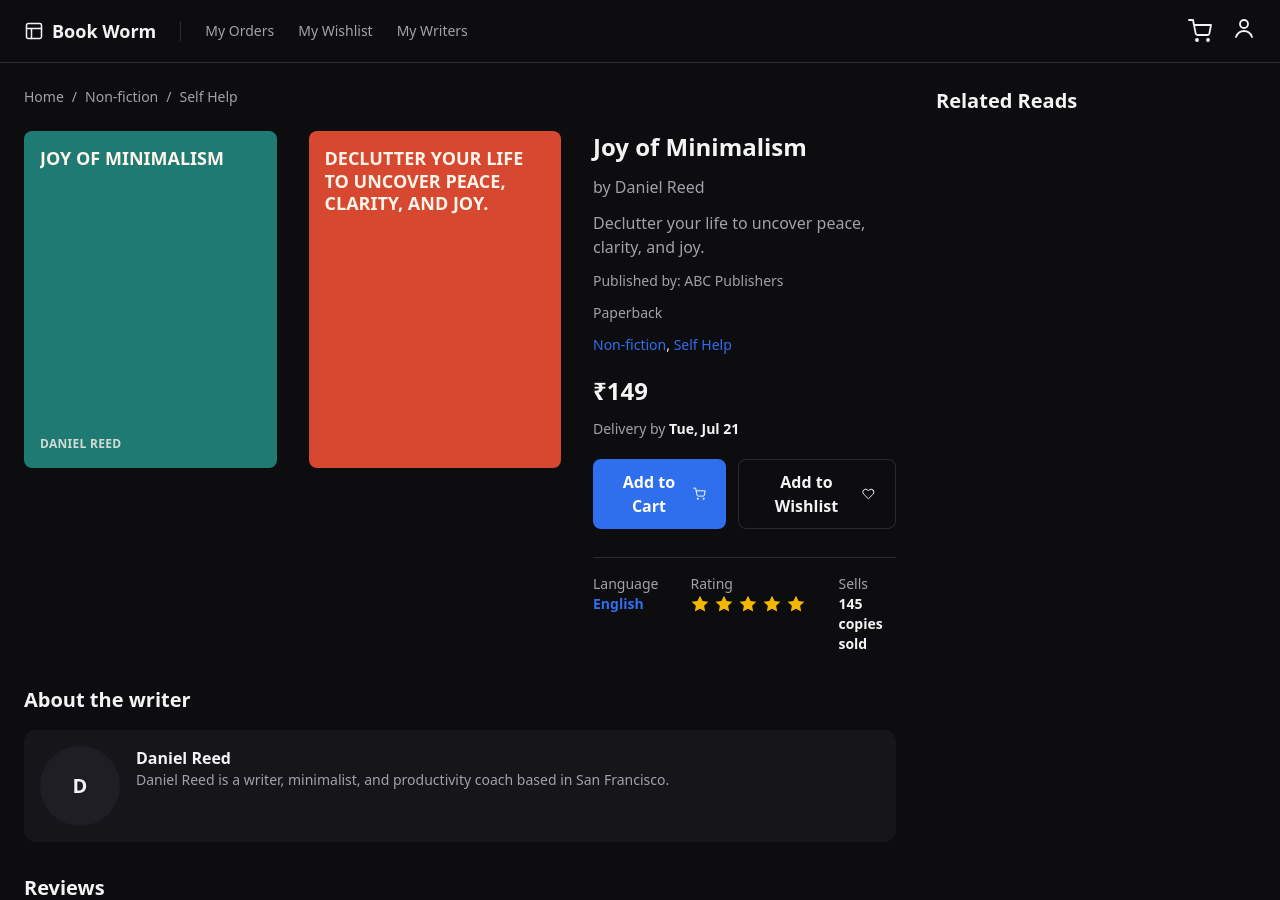
it: ProductDetailsPage › renders book detail and adding to cart updates the header cart badge
The image size is (1280, 900).
Expected: the heading "Joy of Minimalism" is shown, [593, 130, 807, 163]
Expected: the text "Published by: ABC Publishers" is shown, [593, 271, 784, 290]
Click the button with test id "add-to-cart": (659, 494) [593, 459, 726, 529]
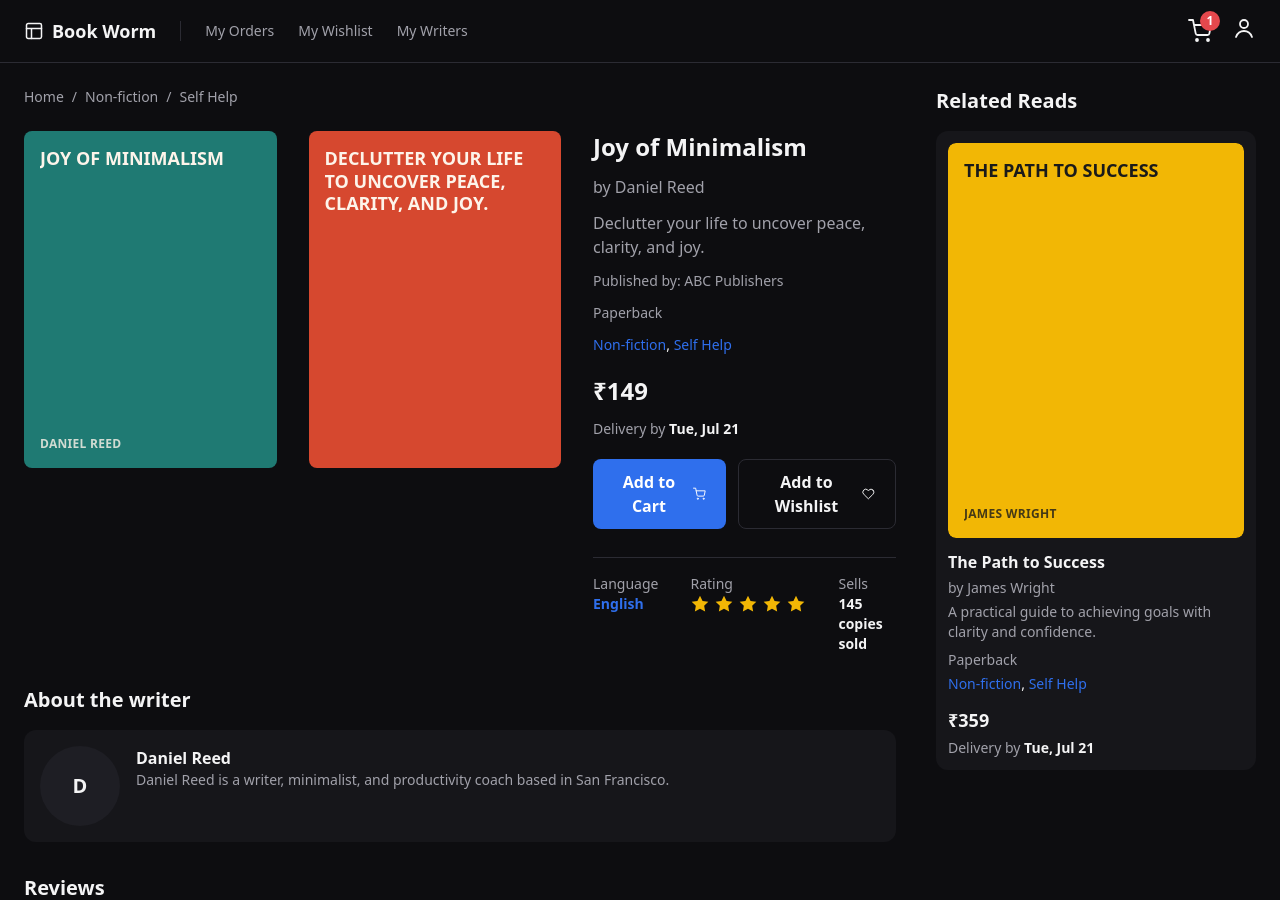
Expected: the text with test id "cart-badge" reads "1", [1207, 12, 1214, 29]
